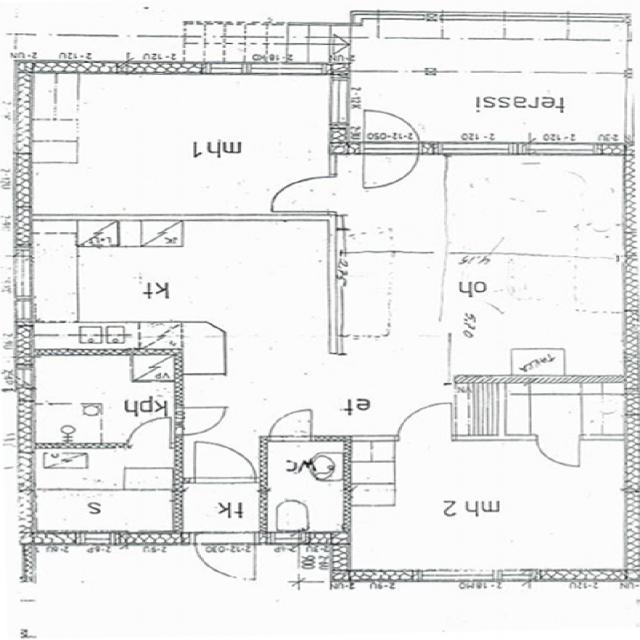door: (194, 532, 254, 581), (196, 440, 256, 483), (362, 142, 418, 188), (362, 107, 418, 153), (274, 177, 336, 211), (399, 404, 451, 441), (126, 416, 170, 448), (174, 407, 226, 434), (536, 435, 579, 467), (269, 409, 311, 441)
